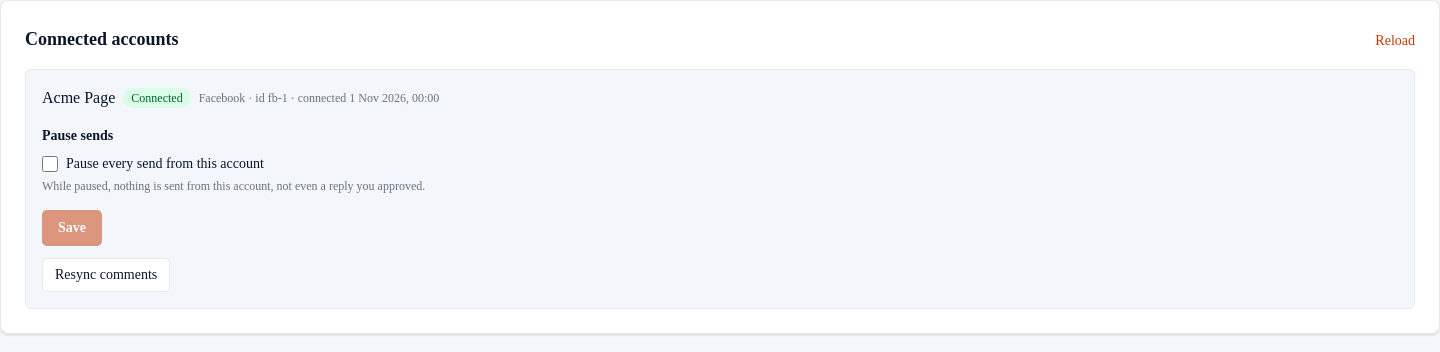
Discard puts the form back to what the server holds
Click the checkbox labelled "Pause every send from this account" at (50, 164), box [42,156,58,172]
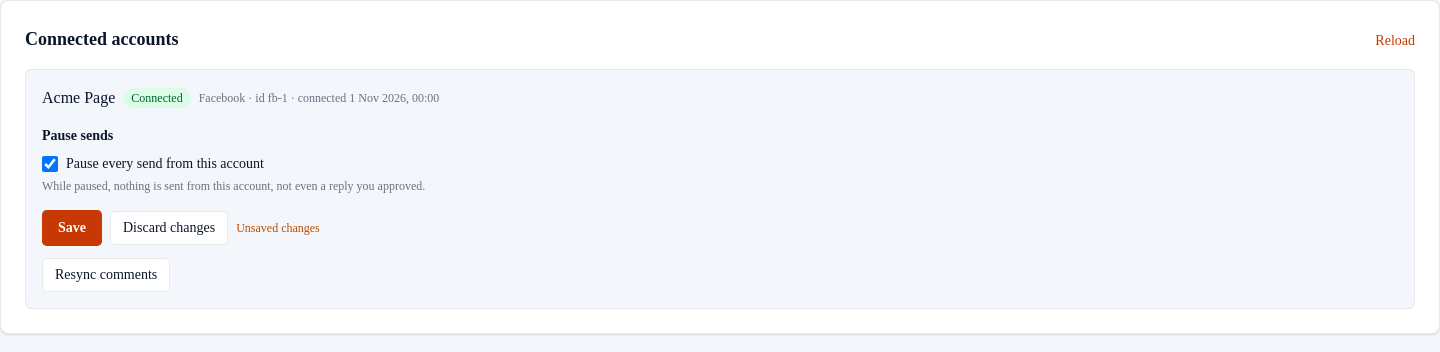
Click the button "Discard changes" at (169, 228), box [110,211,228,245]
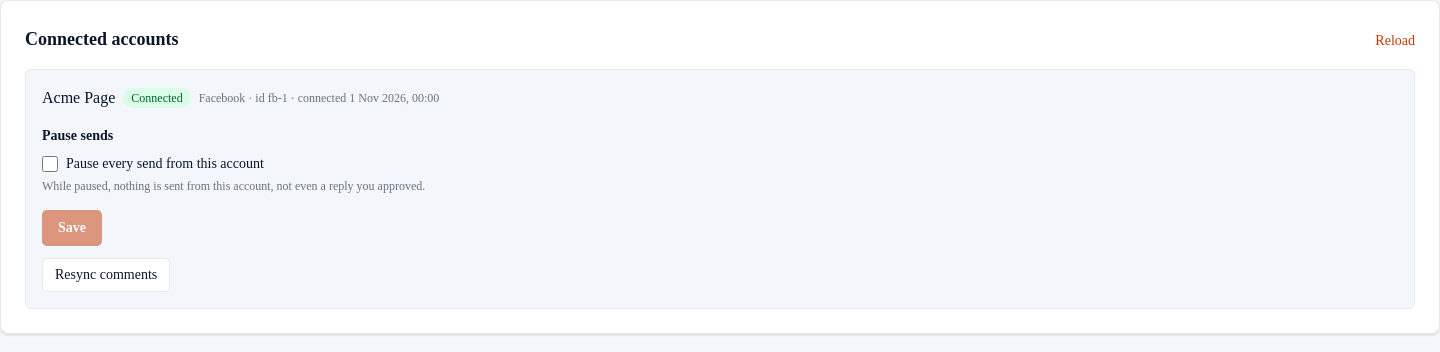
Result: the text "Unsaved changes" is gone
